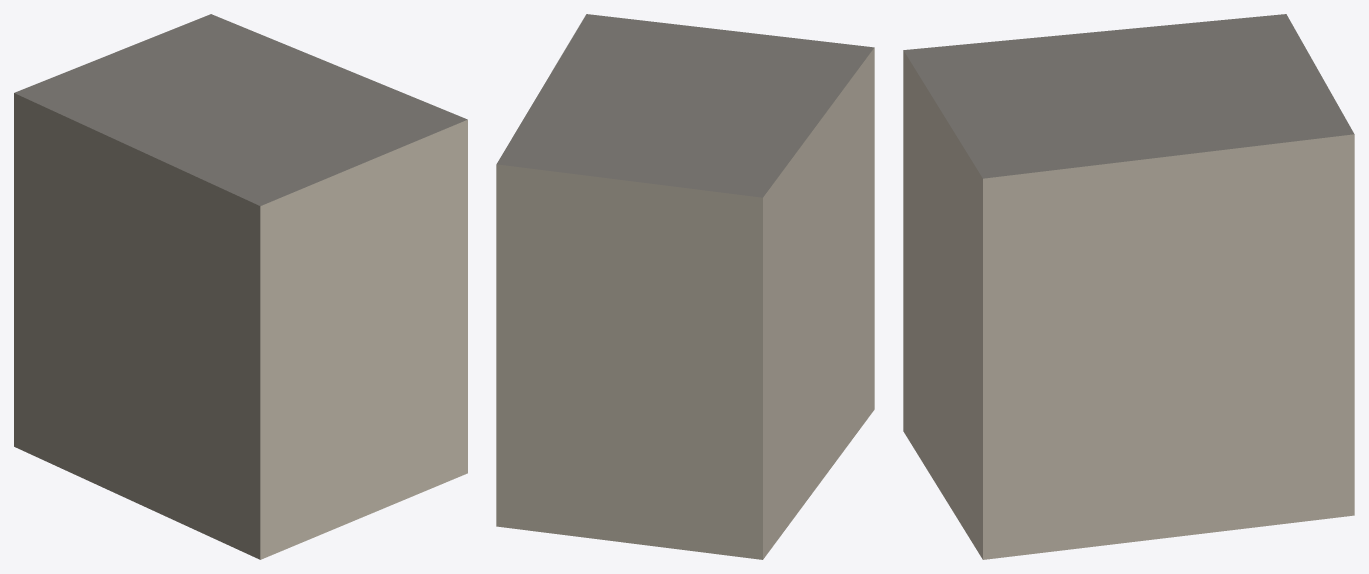
3 views of the same model, side by side, from view 1: azimuth 30°, elevation 25°; view 2: azimuth 150°, elevation 25°; view 3: azimuth 270°, elevation 25° (orthographic). The views are drawn at different scales.
Parts seen in each view (by area): view 1: HP-w1197047259; view 2: HP-w1197047259; view 3: HP-w1197047259.
Boxes of the visible parts, x1,y1,x2,y2 form: HP-w1197047259: (14, 14, 467, 559); HP-w1197047259: (496, 14, 874, 559); HP-w1197047259: (903, 14, 1354, 559).
Size of the model in its own units: 16.67 by 18 by 19.3.
